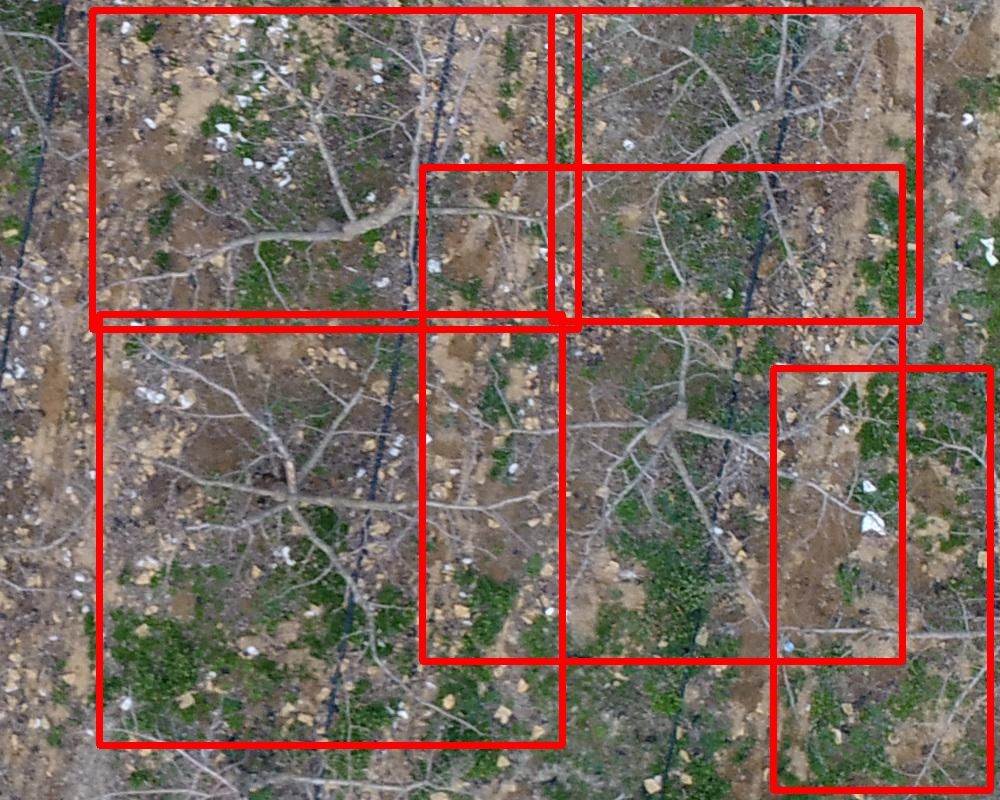apple: (422, 167, 902, 661), (99, 314, 562, 745), (92, 10, 578, 329), (551, 10, 919, 321), (773, 368, 990, 790)
